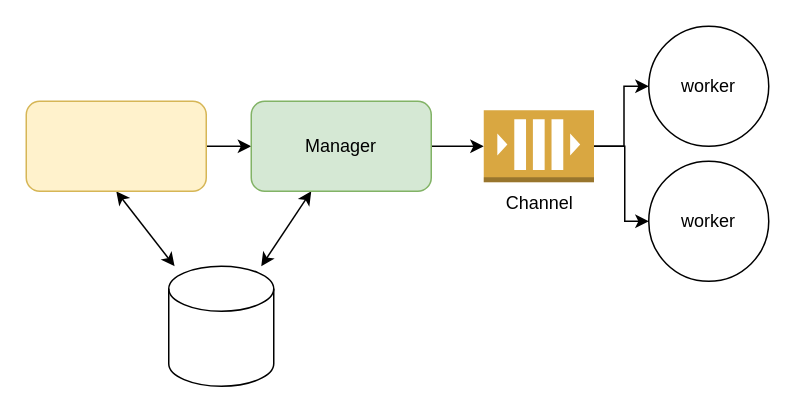
This 795x413 diagram has some shape labels left out. The centre of each missing label's shape, as x and y in pixels:
HTTP Server: pixel 115 145
MySQL Database: pixel 220 325
